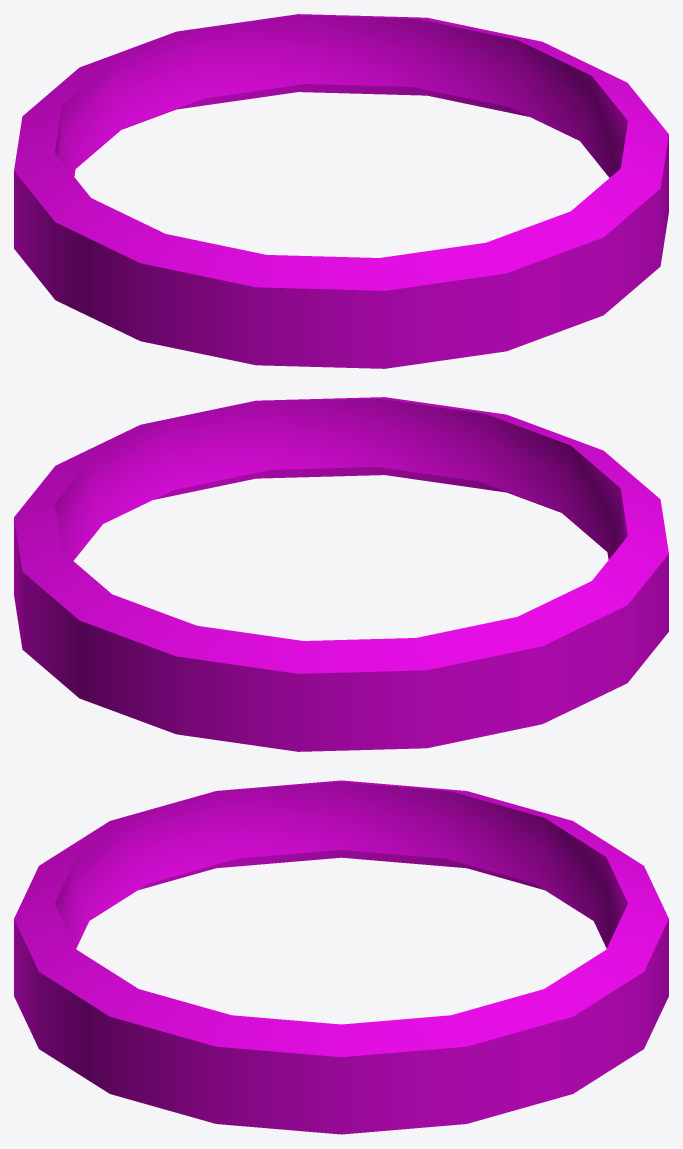
The model's file is button_frame.fbx.
3 views of the same model, one above another, from view 1: azimuth 30°, elevation 25°; view 2: azimuth 150°, elevation 25°; view 3: azimuth 270°, elevation 25° (orthographic).
Parts seen in each view (by area): view 1: button_frame; view 2: button_frame; view 3: button_frame.
Part boxes in pixels (<box>): button_frame: <box>14,14,668,368</box>; button_frame: <box>14,397,668,751</box>; button_frame: <box>14,780,668,1134</box>.
Size of the model in its own units: 120 by 18.75 by 120.
